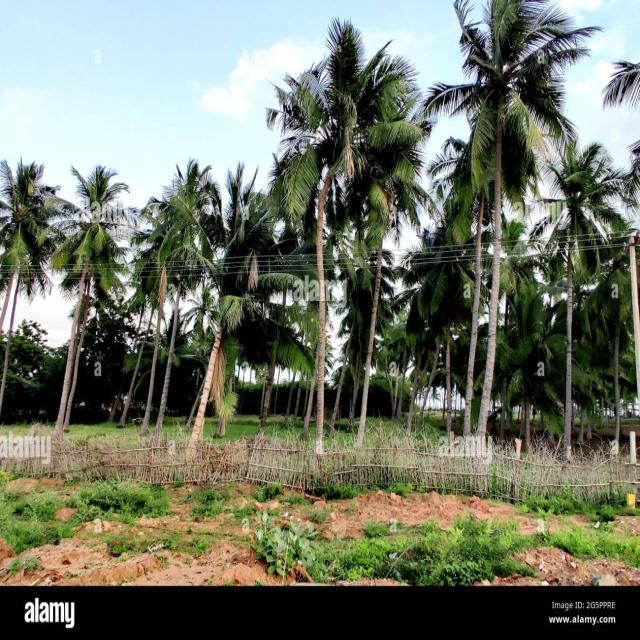Coconut-tree: (439, 26, 608, 436), (274, 46, 389, 434), (31, 169, 139, 443), (143, 165, 238, 415), (0, 136, 33, 424)
